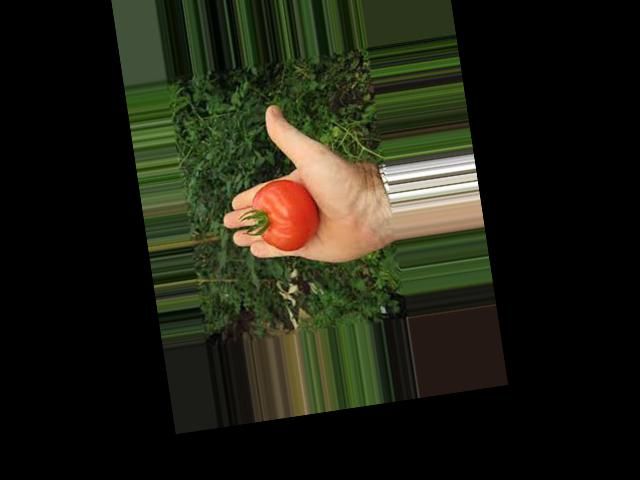tomato: (250, 175, 322, 257)
